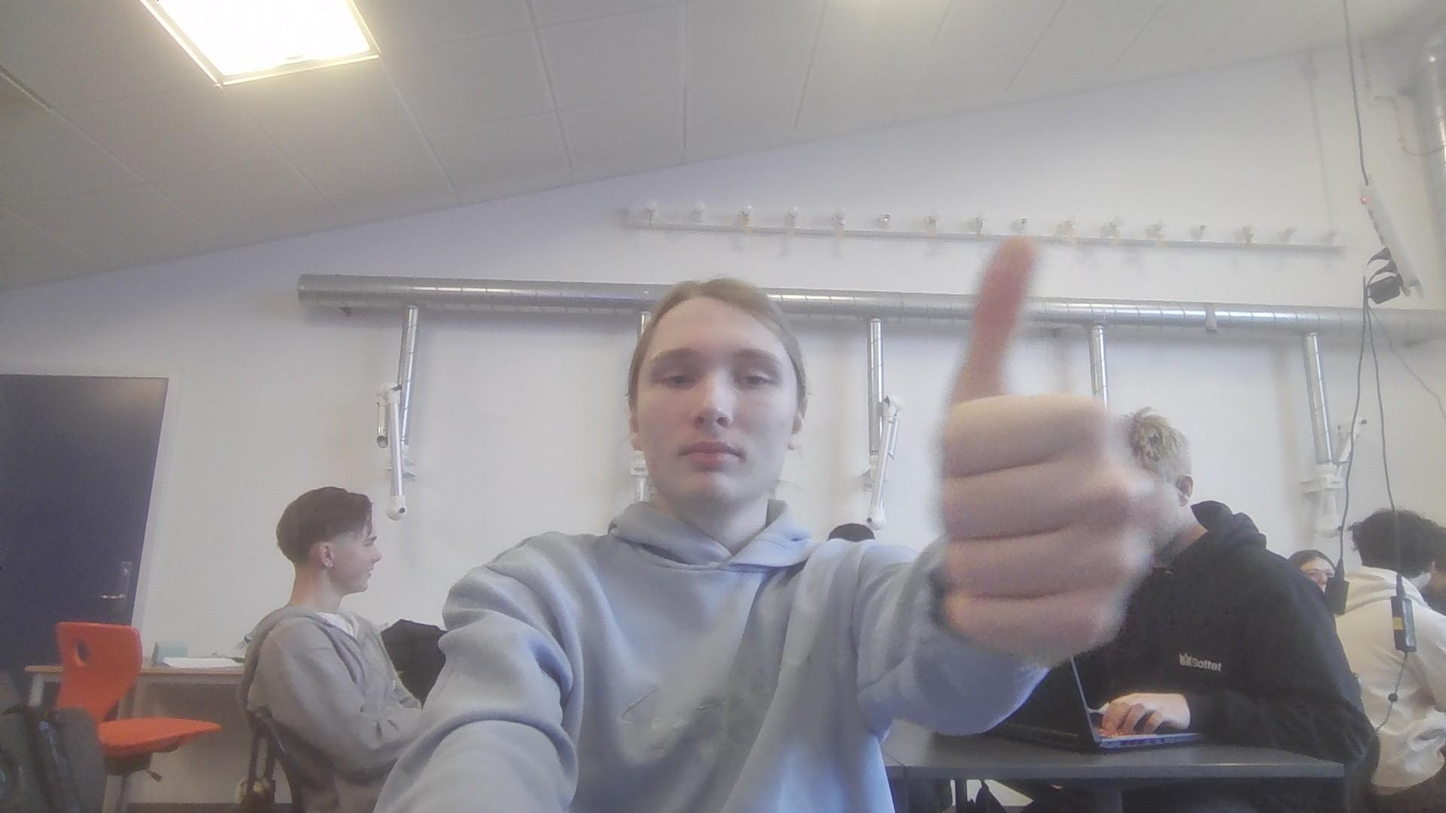thumbs up: (938, 230, 1154, 660)
